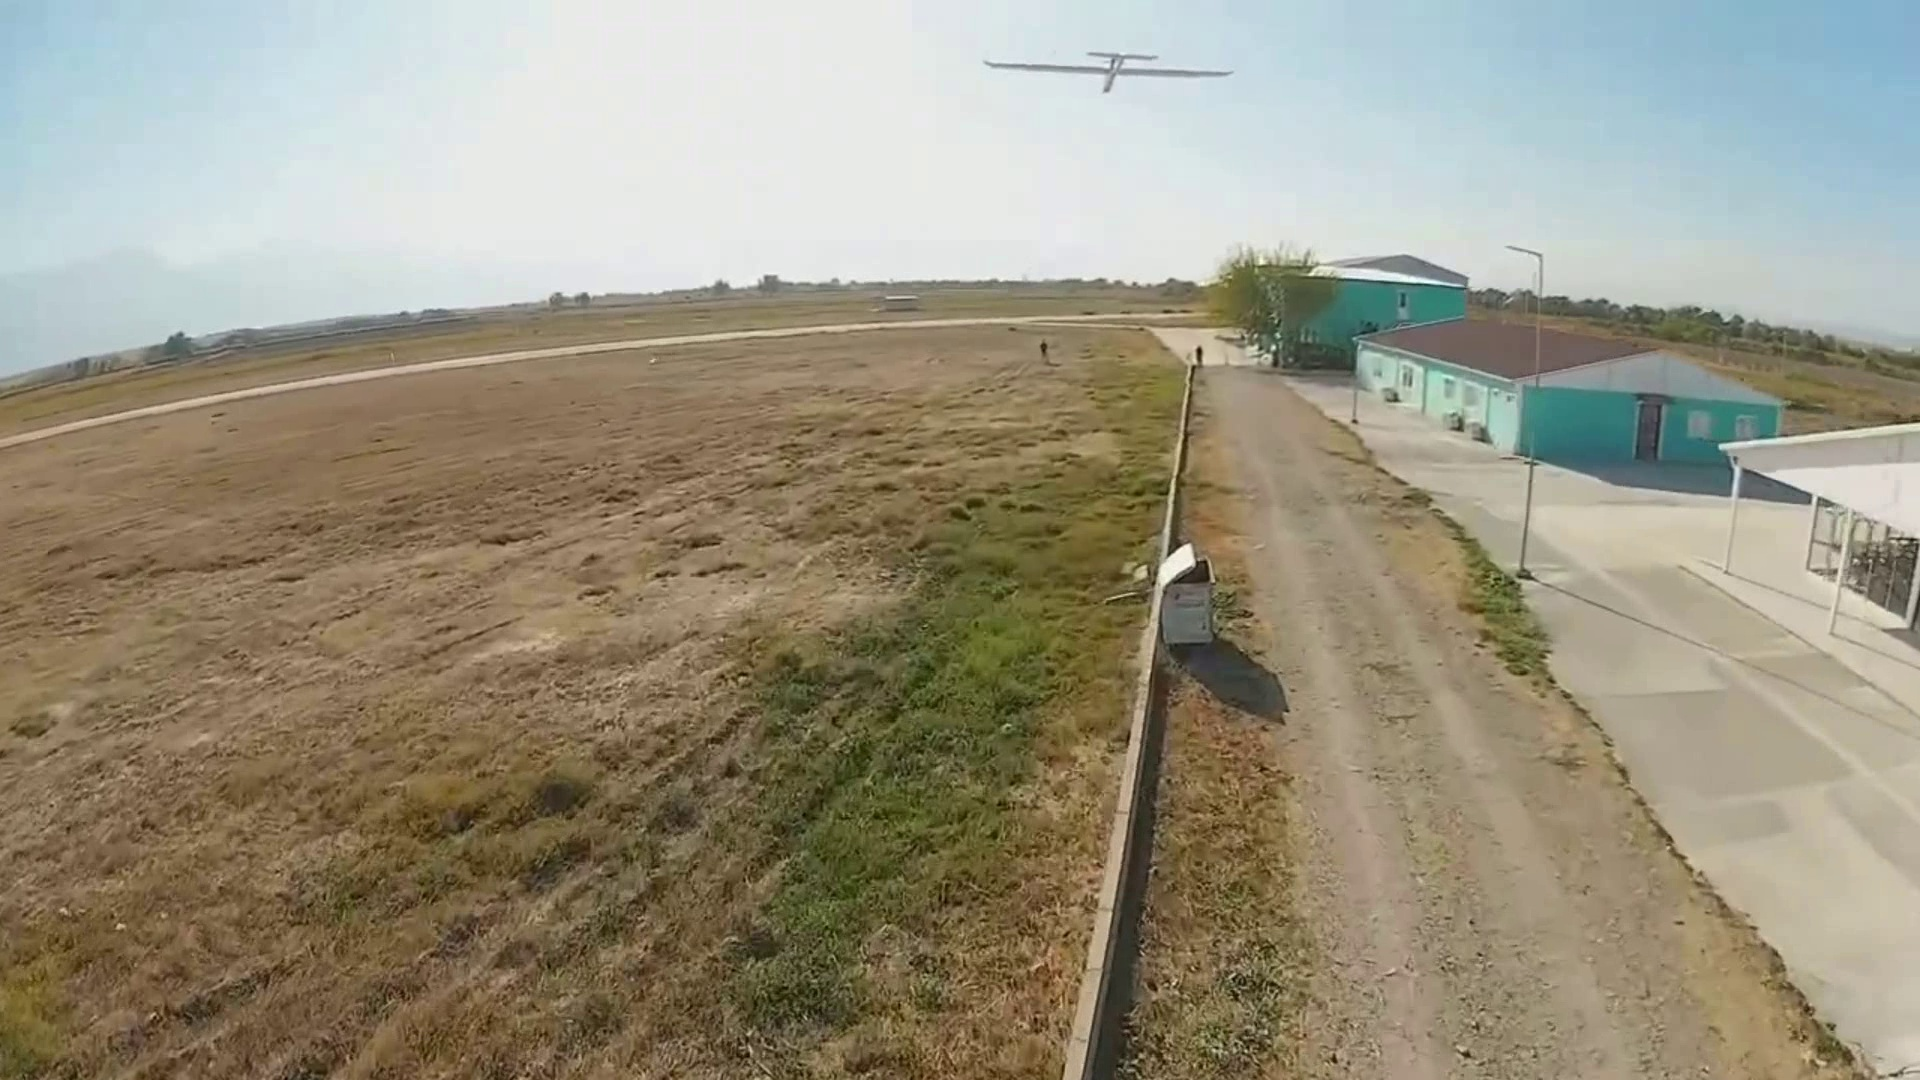airplane: (980, 48, 1235, 92)
